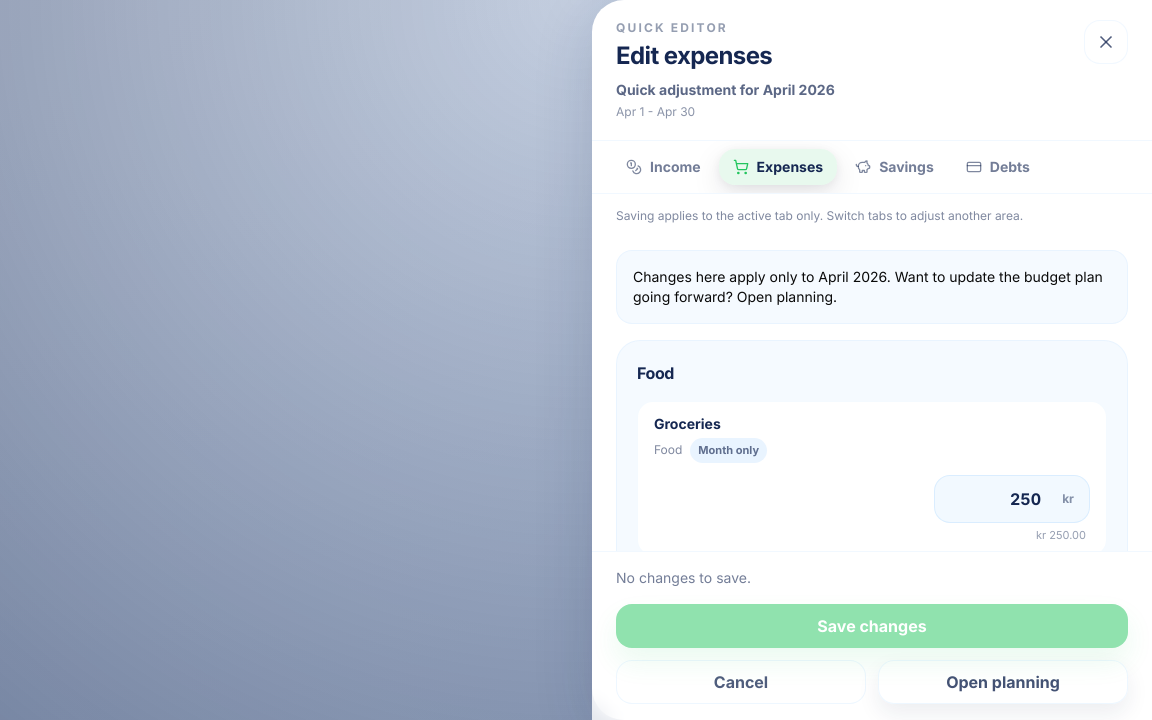
Test case: EditPeriodDrawer quick-edit tab shell › switches the title and mounts the income panel when its tab is clicked
Expected: the heading "Edit expenses" is shown, top-left (616, 41), bottom-right (772, 70)
Click the tab "Income". click: [663, 167]
box: top-left (612, 149), bottom-right (715, 185)
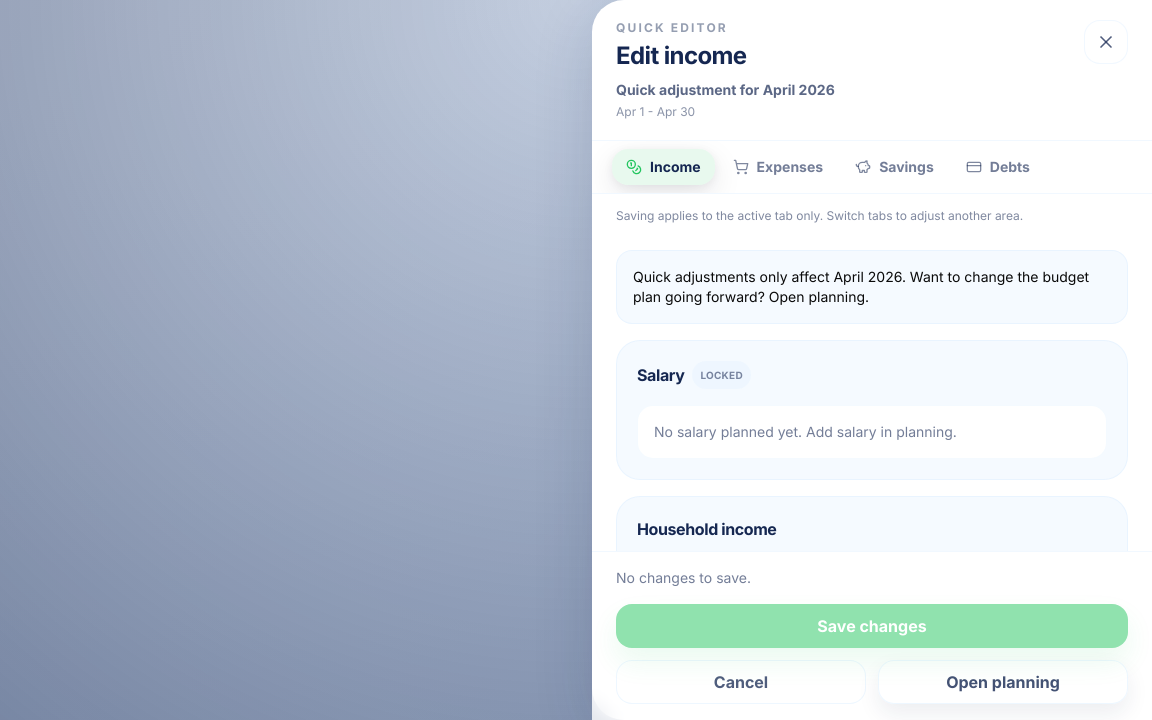
Expected: the heading "Edit income" is shown, top-left (616, 41), bottom-right (747, 70)
